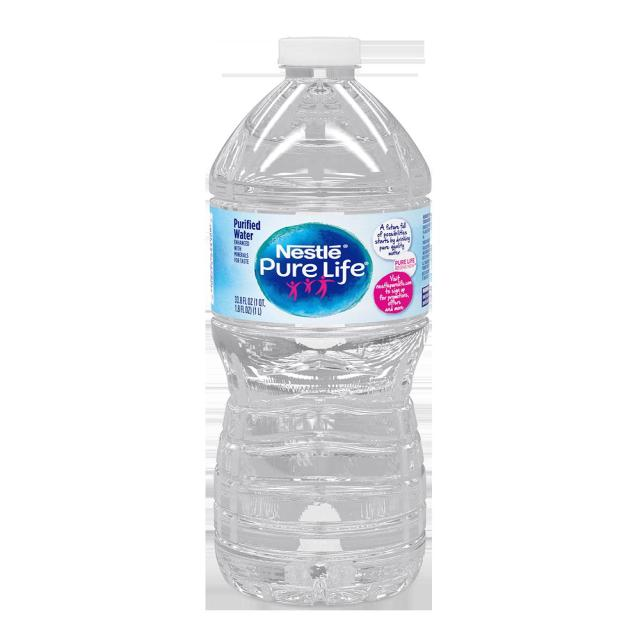bottle: (206, 30, 430, 604)
